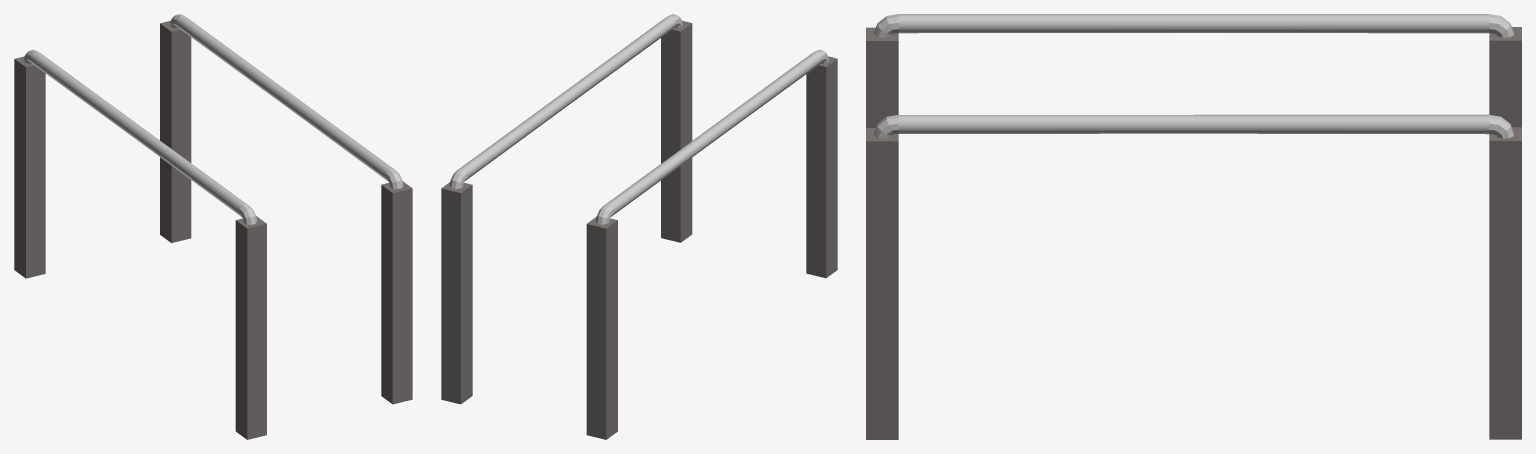
Rendered from SM_Crossbar_02.FBX.
3 renders of one model, left to right at view 1: azimuth 30°, elevation 25°; view 2: azimuth 150°, elevation 25°; view 3: azimuth 270°, elevation 25°, orthographic. The views are drawn at different scales.
Parts seen in each view (by area): view 1: SM_Crossbar_02; view 2: SM_Crossbar_02; view 3: SM_Crossbar_02.
Part boxes in pixels (left/top/right/bottom): SM_Crossbar_02: left=14, top=14, right=412, bottom=439; SM_Crossbar_02: left=441, top=14, right=837, bottom=439; SM_Crossbar_02: left=866, top=14, right=1521, bottom=439.
Size of the model in its own units: 102 by 246 by 131.
